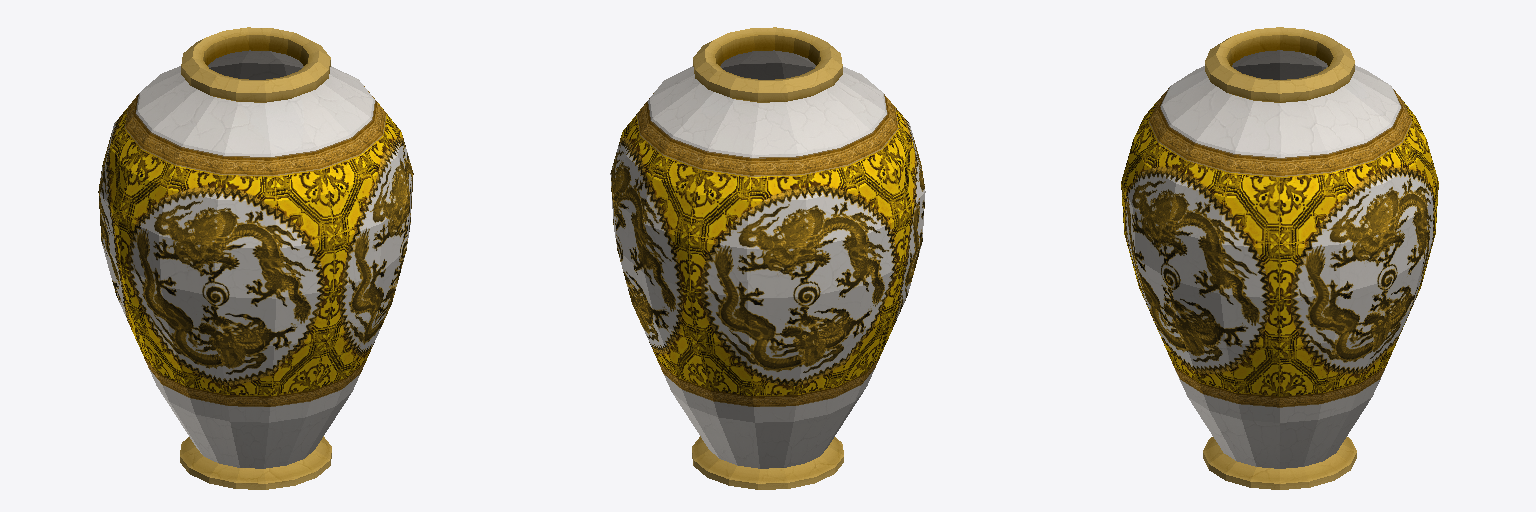
3 renders of one model, left to right at view 1: azimuth 30°, elevation 25°; view 2: azimuth 150°, elevation 25°; view 3: azimuth 270°, elevation 25°, orthographic.
Parts seen in each view (by area): view 1: Default; view 2: Default; view 3: Default.
Part boxes in pixels (left/top/right/bottom): Default: left=98, top=27, right=413, bottom=489; Default: left=610, top=27, right=925, bottom=489; Default: left=1121, top=27, right=1438, bottom=489.
Size of the model in its own units: 2 by 2.8 by 2.
Materials: 1 (1 with a texture image).